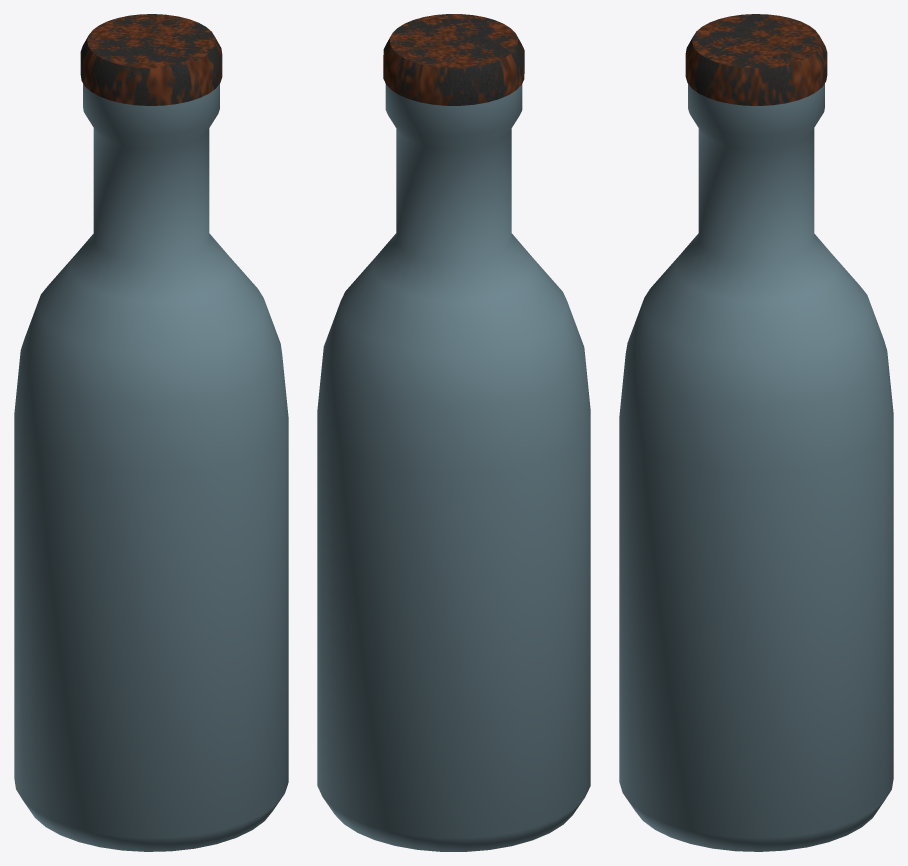
File: SM_Bottle_43f28bee84.fbx
3 renders of one model, left to right at view 1: azimuth 30°, elevation 25°; view 2: azimuth 150°, elevation 25°; view 3: azimuth 270°, elevation 25°, orthographic.
Visible parts, largest first — view 1: SM_Bottle_43f28bee84; view 2: SM_Bottle_43f28bee84; view 3: SM_Bottle_43f28bee84.
Boxes of the visible parts, bbox=[...] form: SM_Bottle_43f28bee84: bbox=[14, 14, 288, 851]; SM_Bottle_43f28bee84: bbox=[317, 14, 590, 851]; SM_Bottle_43f28bee84: bbox=[619, 14, 893, 851].
Size of what is drawn, in the model's own units: 12.79 by 12.79 by 39.4.
2 materials, 1 textured.
